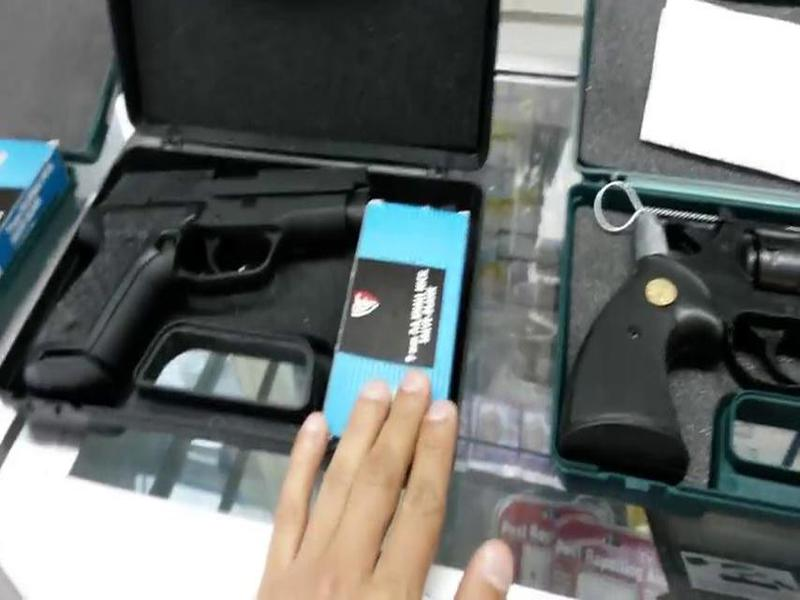Pistola: (28, 134, 374, 438)
